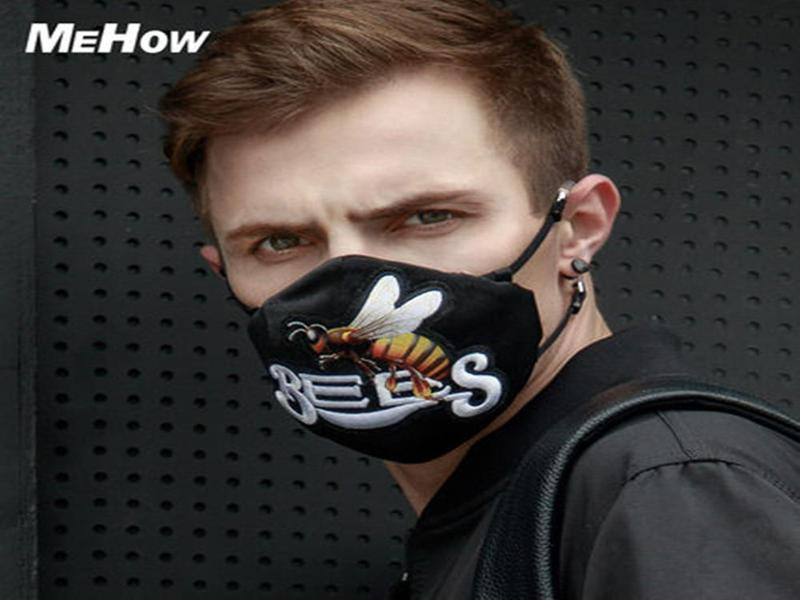with_mask: (206, 1, 618, 469)
